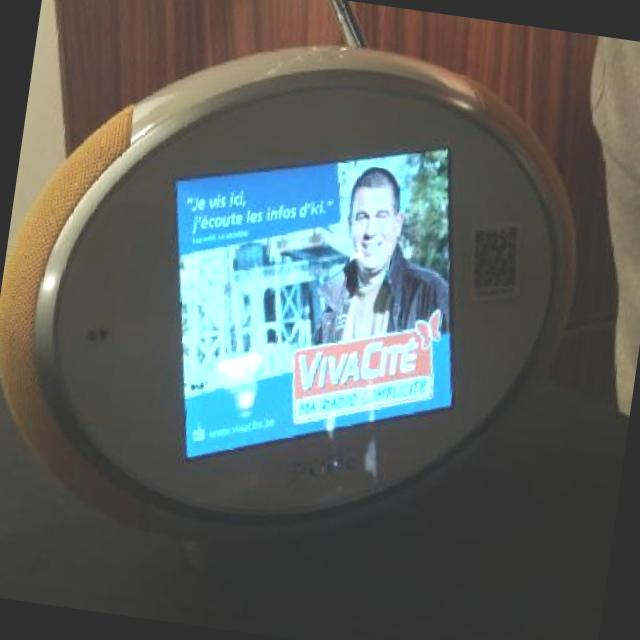Person: (308, 162, 468, 368)
